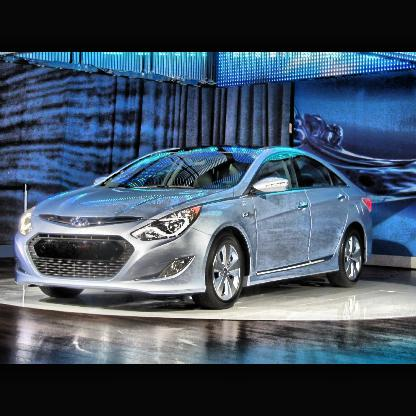Hyundai Sonata Hybrid Sedan 2012: (16, 148, 375, 312)
